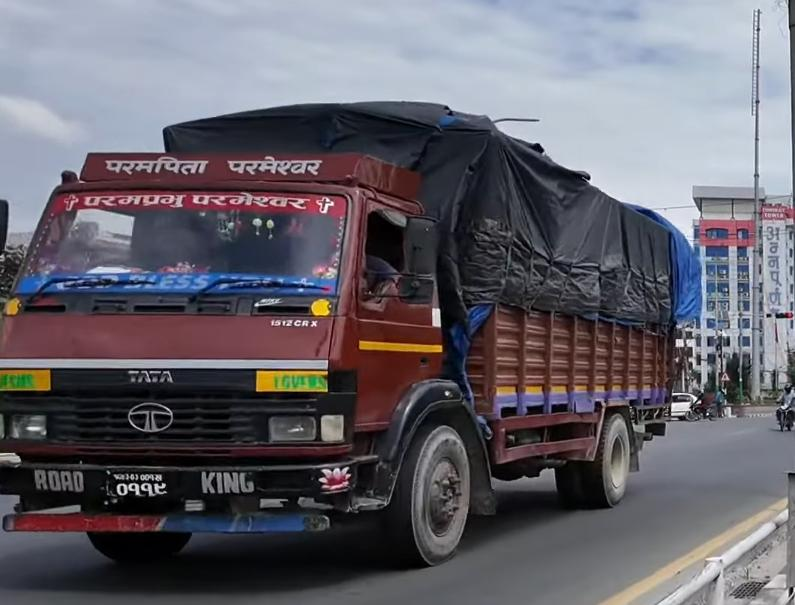bike: (775, 402, 794, 431)
car: (667, 392, 697, 420)
truck: (0, 98, 703, 568)
